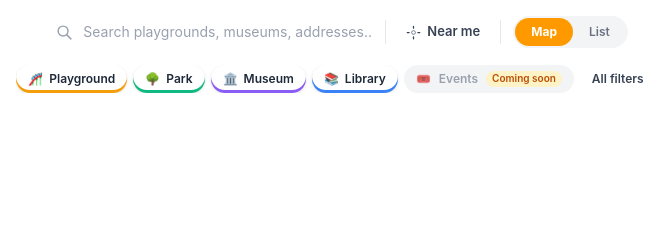
Test: SearchField combobox keyboard navigation (#482) › hides address results once the text is edited after submitting
This screenshot has width=660, height=230.
Type "first" into the dropdown with placeholder "Search playgrounds, museums, addresses…" at (228, 32), box [83, 22, 373, 42]
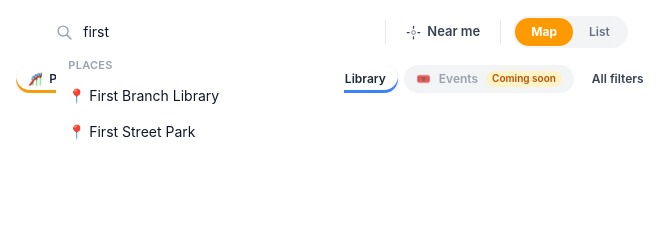
Press Enter in the dropdown with placeholder "Search playgrounds, museums, addresses…", box [83, 22, 373, 42]
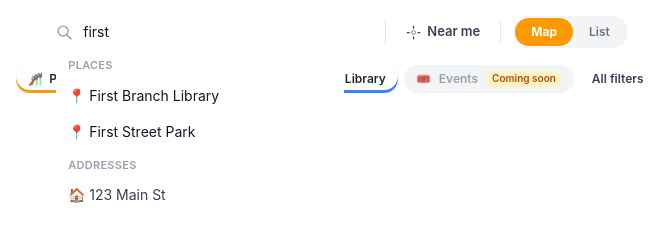
Now the option "🏠 123 Main St" is shown, box [56, 177, 344, 213]
Replace the text in the dropdown with placeholder "Search playgrounds, museums, addresses…" with "firstx" at (228, 32), box [83, 22, 373, 42]
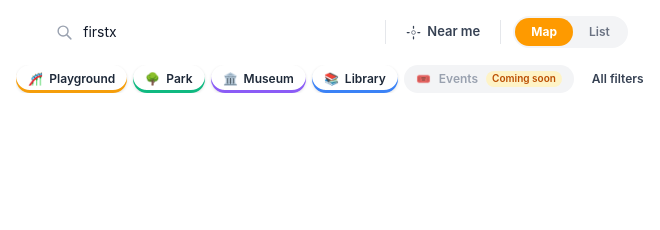
Now the option "123 Main St" is gone
